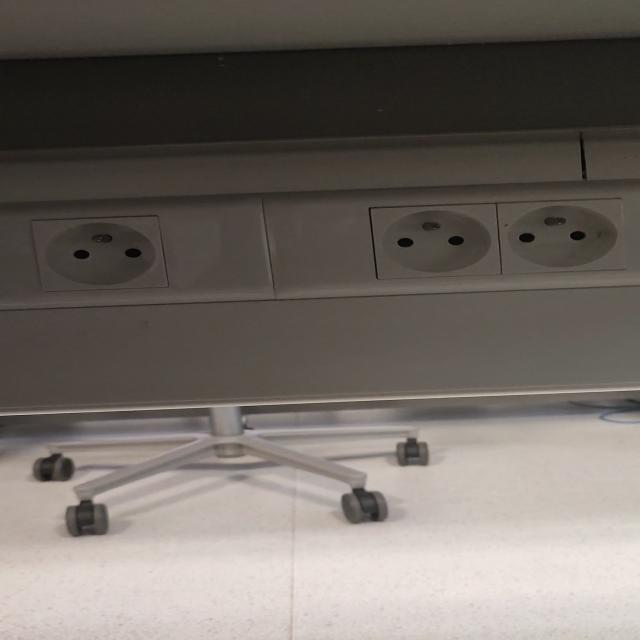house plug: (30, 215, 167, 294), (370, 203, 501, 279), (501, 199, 625, 272)
